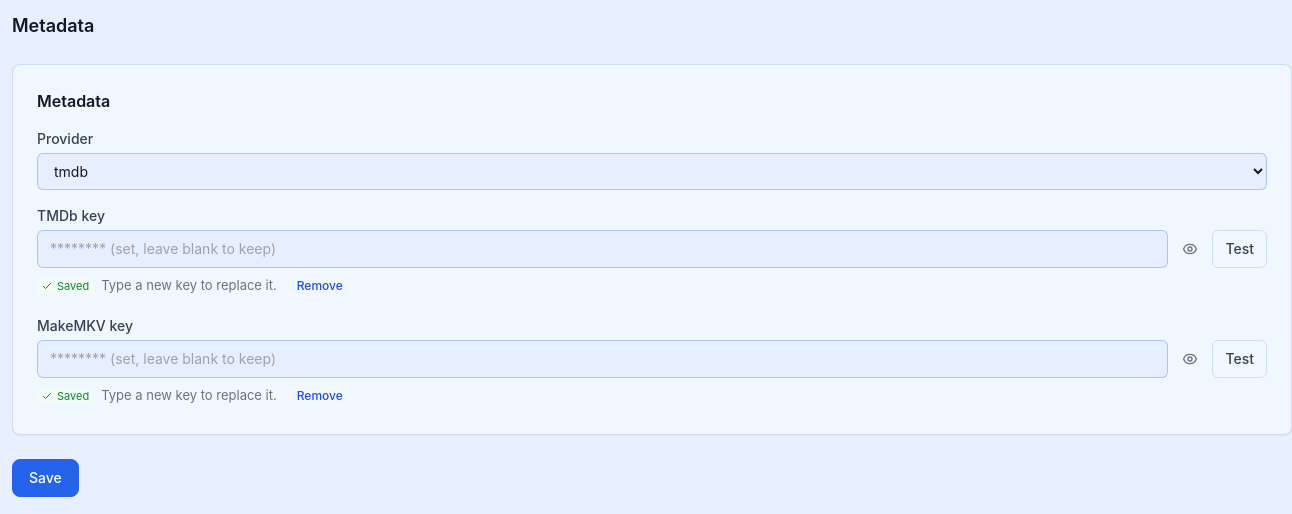
it: SchemaConfigForm save feedback › shows the server message in an alert when Save is rejected
Step 1. Click the button "Save" → [45, 478], box [12, 459, 79, 497]
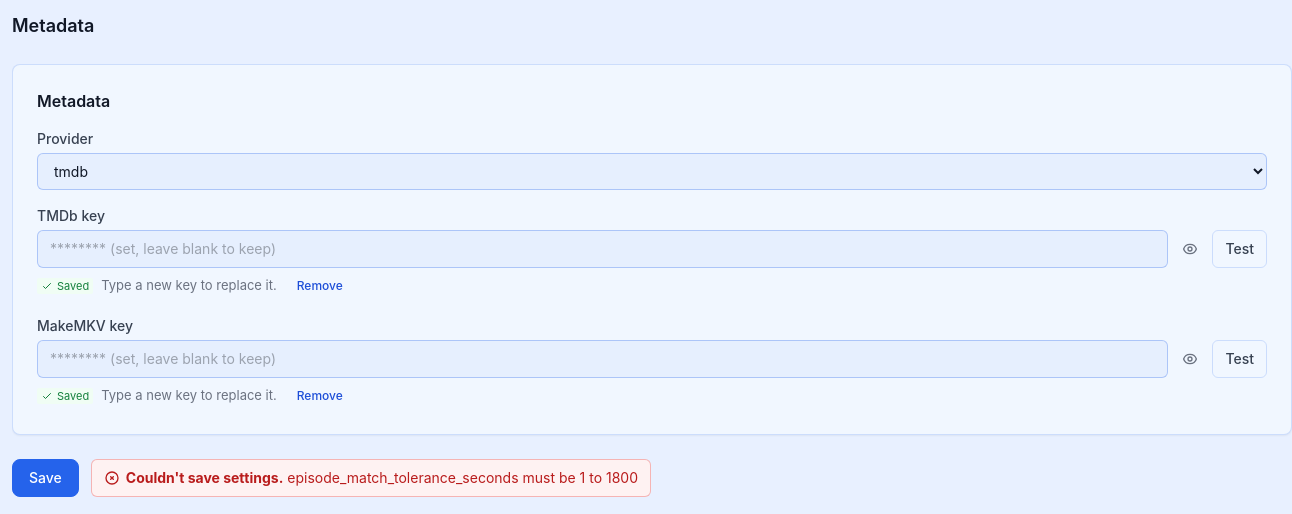
Now the message shows "Couldn't save settings.", box [126, 469, 283, 486]
Now the message shows "must be 1 to 1800", box [283, 469, 638, 486]
